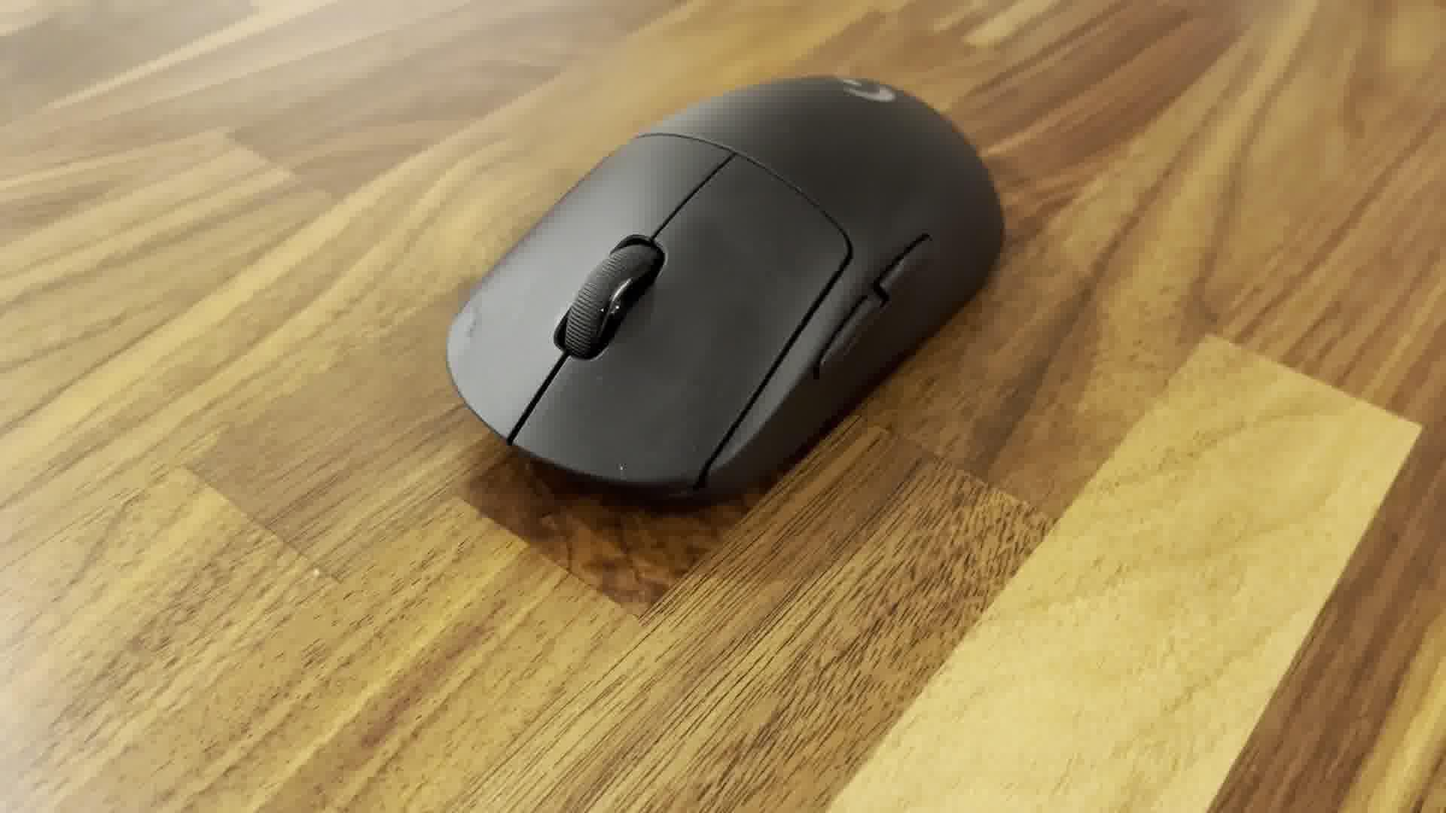logicool: (439, 69, 1004, 508)
